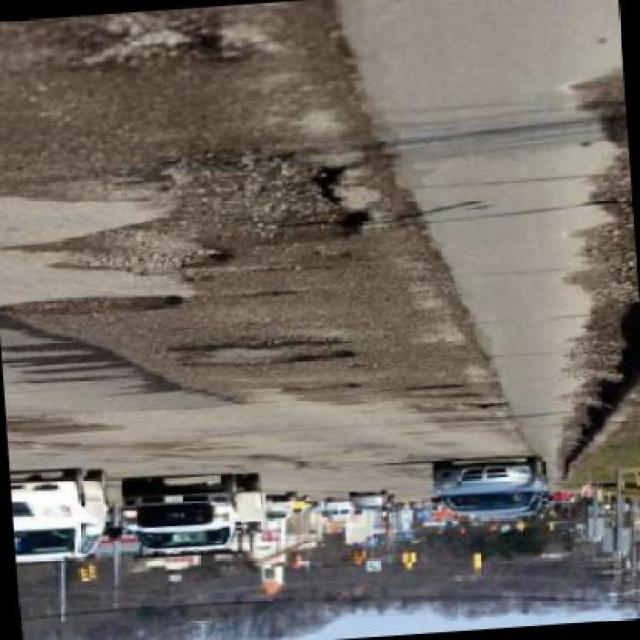pothole1: (162, 135, 380, 256), (66, 16, 245, 79), (76, 221, 235, 281), (0, 286, 195, 324), (166, 322, 354, 360), (184, 353, 359, 375), (280, 378, 368, 397)
